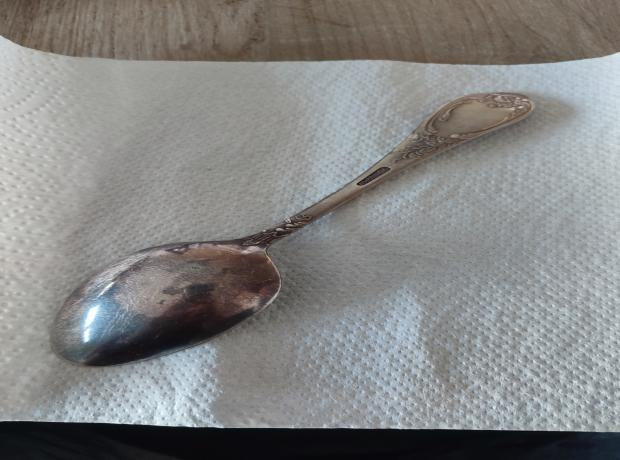metal: (47, 91, 541, 368)
